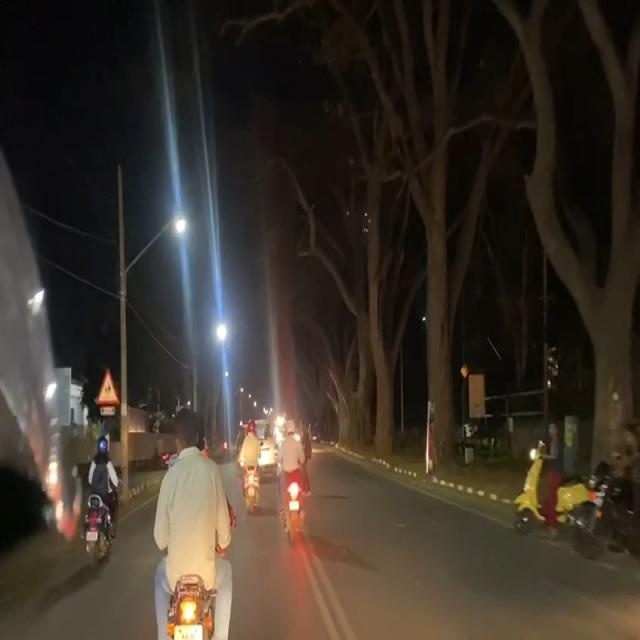bien_nguy_hiem: (94, 366, 120, 406)
